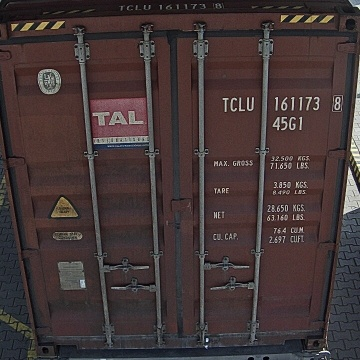serial_id: (223, 96, 342, 111)
